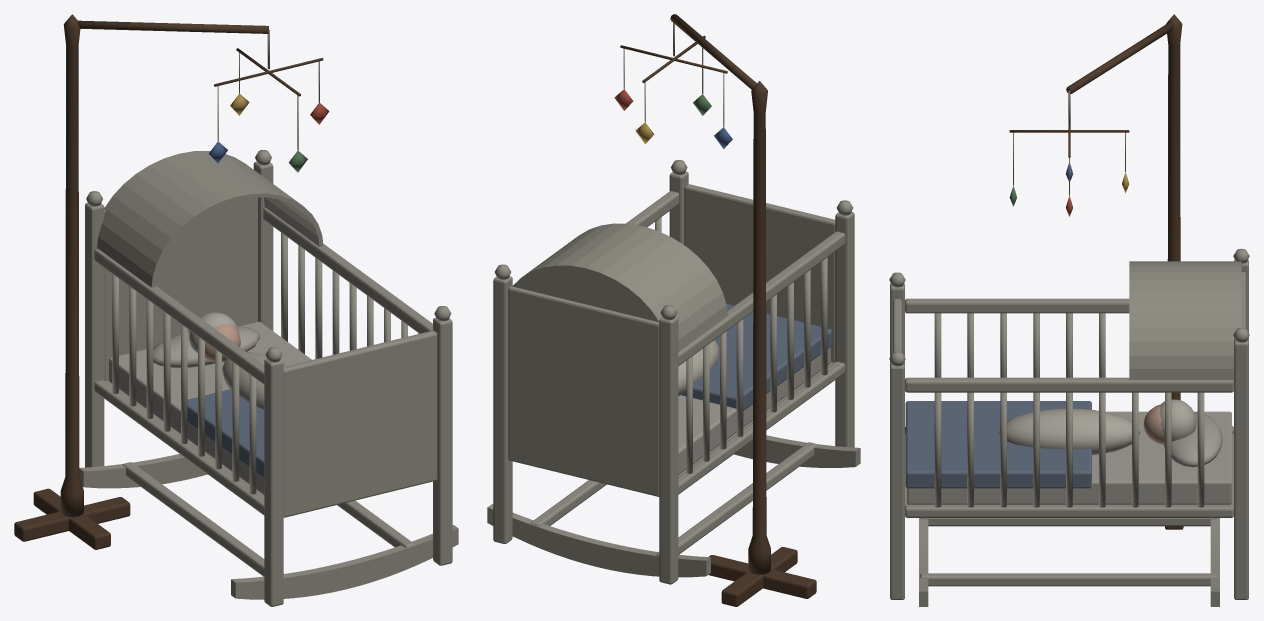
The model's file is cradle.glb.
3 views of the same model, side by side, from view 1: azimuth 30°, elevation 25°; view 2: azimuth 150°, elevation 25°; view 3: azimuth 270°, elevation 25° (orthographic). The views are drawn at different scales.
Visible parts, largest first — view 1: cradle, stand, baby, mobile; view 2: cradle, stand, mobile, baby; view 3: cradle, baby, stand, mobile.
Boxes of the visible parts, x1,y1,x2,y2 form: cradle: (79, 150, 458, 606); stand: (14, 14, 269, 549); baby: (189, 312, 286, 409); mobile: (208, 48, 329, 172); cradle: (487, 160, 860, 584); stand: (670, 14, 816, 606); mobile: (614, 35, 732, 148); baby: (678, 340, 719, 395); cradle: (889, 248, 1249, 606); baby: (998, 399, 1196, 454); stand: (1066, 14, 1183, 529); mobile: (1009, 128, 1129, 216).
Size of the model in its own units: 0.91 by 1.45 by 0.964.
